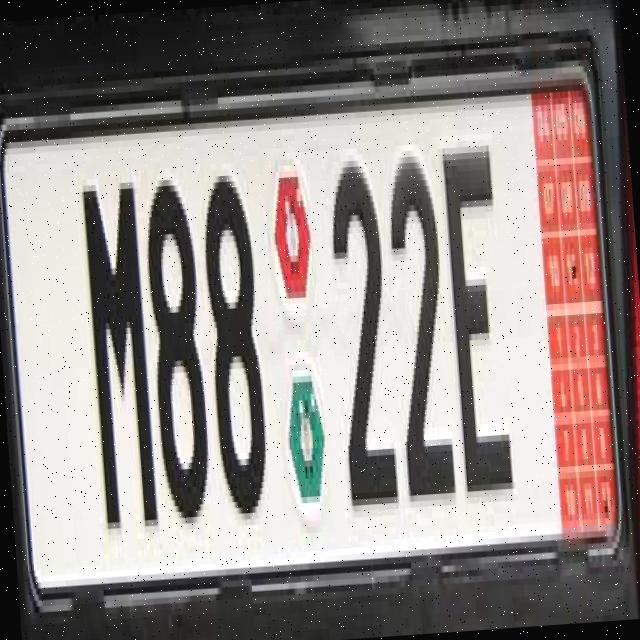Autre: (0, 82, 629, 594)
